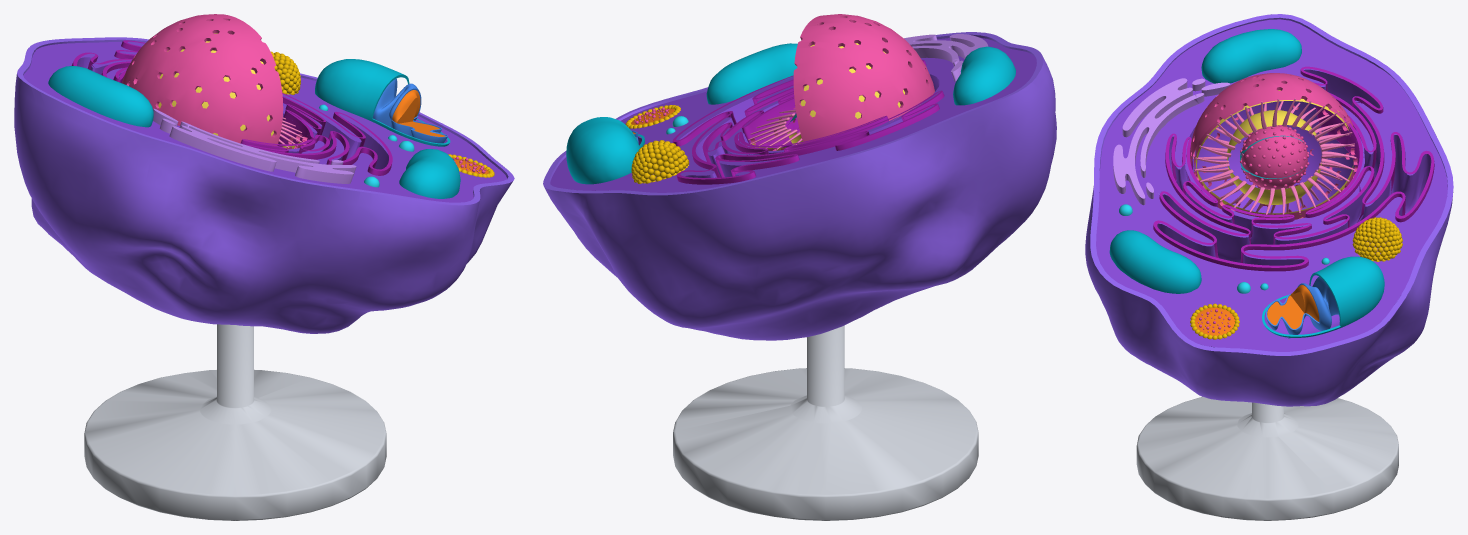
The model's file is cell-cross-section.glb.
3 views of the same model, side by side, from view 1: azimuth 30°, elevation 25°; view 2: azimuth 150°, elevation 25°; view 3: azimuth 270°, elevation 25° (orthographic). The views are drawn at different scales.
Parts seen in each view (by area): view 1: model_0, model_11, model_3, model_12, model_9, model_2, model_1, model_10, model_8, model_7; view 2: model_0, model_11, model_3, model_12, model_9, model_2, model_7, model_1, model_4; view 3: model_12, model_11, model_0, model_2, model_9, model_3, model_4, model_1, model_5, model_7, model_8, model_10 (+1 smaller).
Part boxes in pixels (<box>): model_0: <box>14,37,514,333</box>; model_11: <box>84,324,386,520</box>; model_3: <box>121,14,486,173</box>; model_12: <box>23,42,506,202</box>; model_9: <box>48,59,460,198</box>; model_2: <box>71,40,392,175</box>; model_1: <box>153,108,356,183</box>; model_10: <box>372,78,447,143</box>; model_8: <box>392,90,488,173</box>; model_7: <box>271,51,494,177</box>; model_0: <box>543,32,1056,340</box>; model_11: <box>673,325,978,520</box>; model_3: <box>634,14,934,150</box>; model_12: <box>550,37,1036,192</box>; model_9: <box>566,43,1015,184</box>; model_2: <box>672,60,944,184</box>; model_7: <box>625,105,689,183</box>; model_1: <box>904,34,988,81</box>; model_4: <box>748,65,802,149</box>; model_12: <box>1096,19,1447,351</box>; model_11: <box>1136,396,1398,520</box>; model_0: <box>1085,14,1453,406</box>; model_2: <box>1153,66,1434,271</box>; model_9: <box>1109,29,1384,338</box>; model_3: <box>1190,73,1357,333</box>; model_4: <box>1192,98,1356,214</box>; model_1: <box>1113,78,1230,205</box>; model_5: <box>1195,90,1353,218</box>; model_7: <box>1190,217,1402,339</box>; model_8: <box>1194,285,1319,336</box>; model_10: <box>1266,276,1339,334</box>.
Size of the model in its own units: 736 by 664 by 586.
